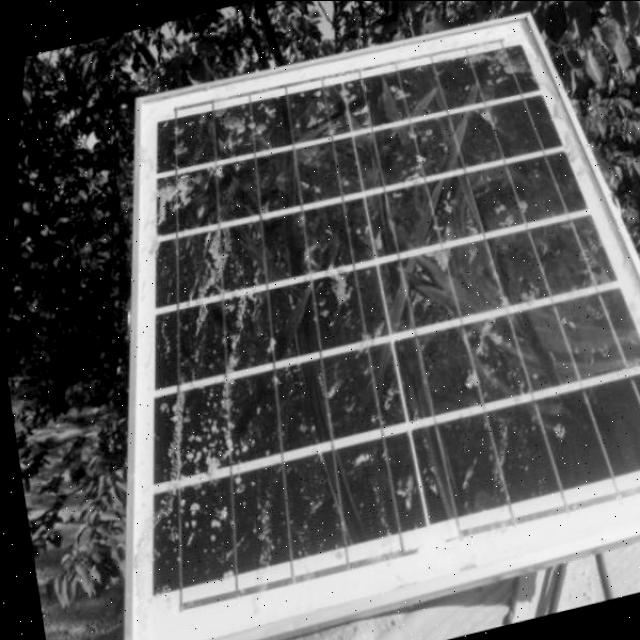Anomaly Solar Panel: (136, 31, 640, 618)
Surface Contaminant: (135, 43, 640, 588)
